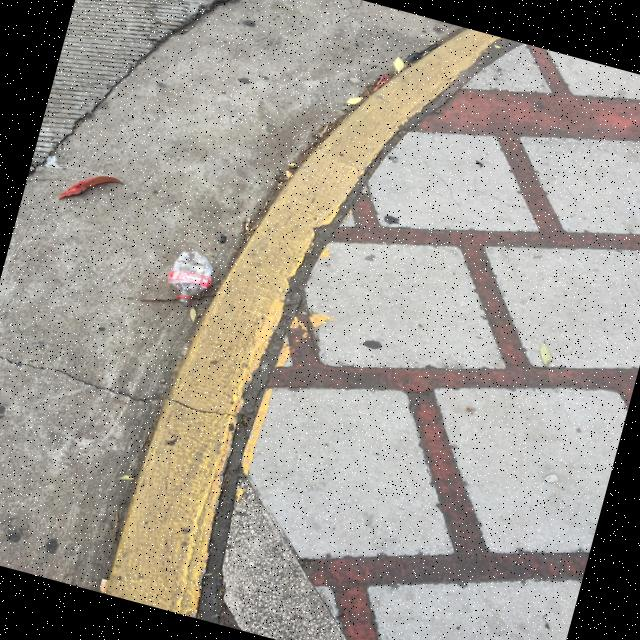Cigarette: (101, 580, 107, 592), (286, 172, 288, 177)
Clear plastic bottle: (167, 251, 212, 305)
